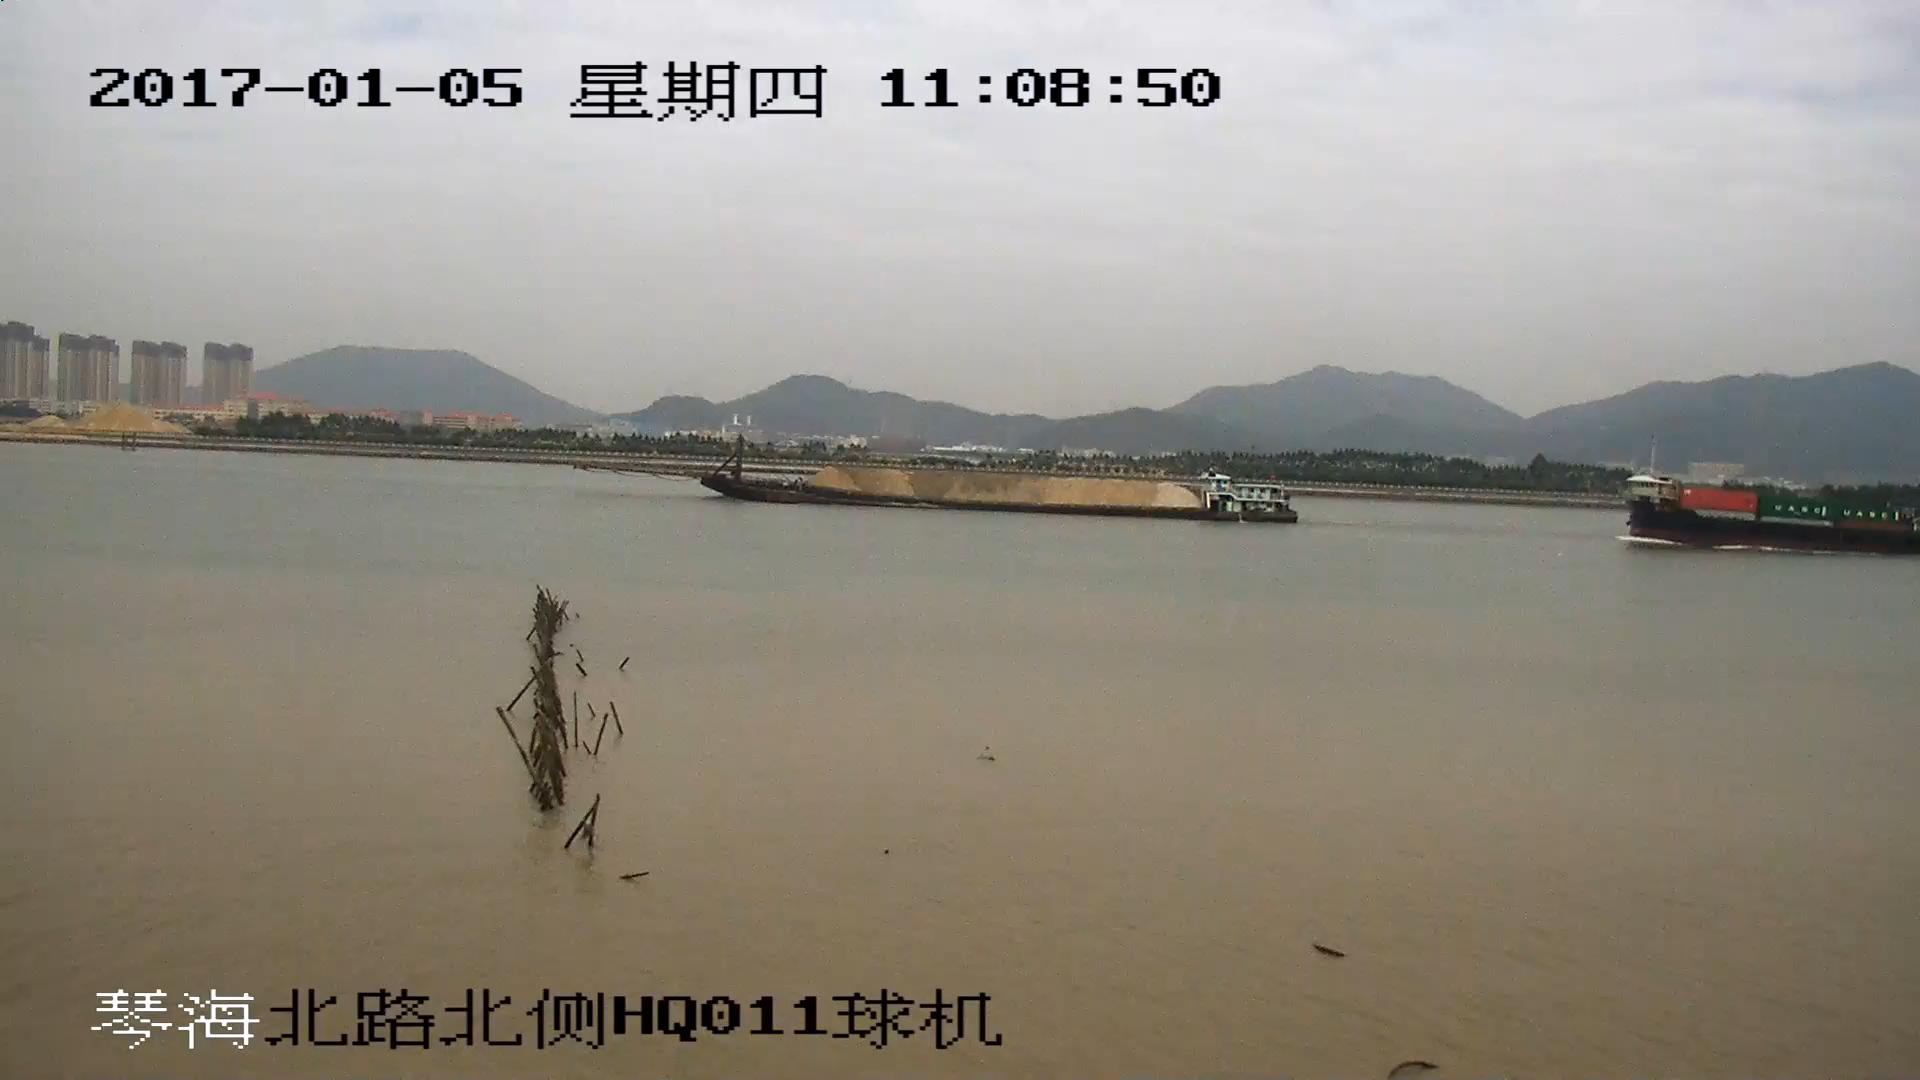container ship: (1627, 476, 1920, 551)
ore carrier: (575, 440, 1291, 526)
